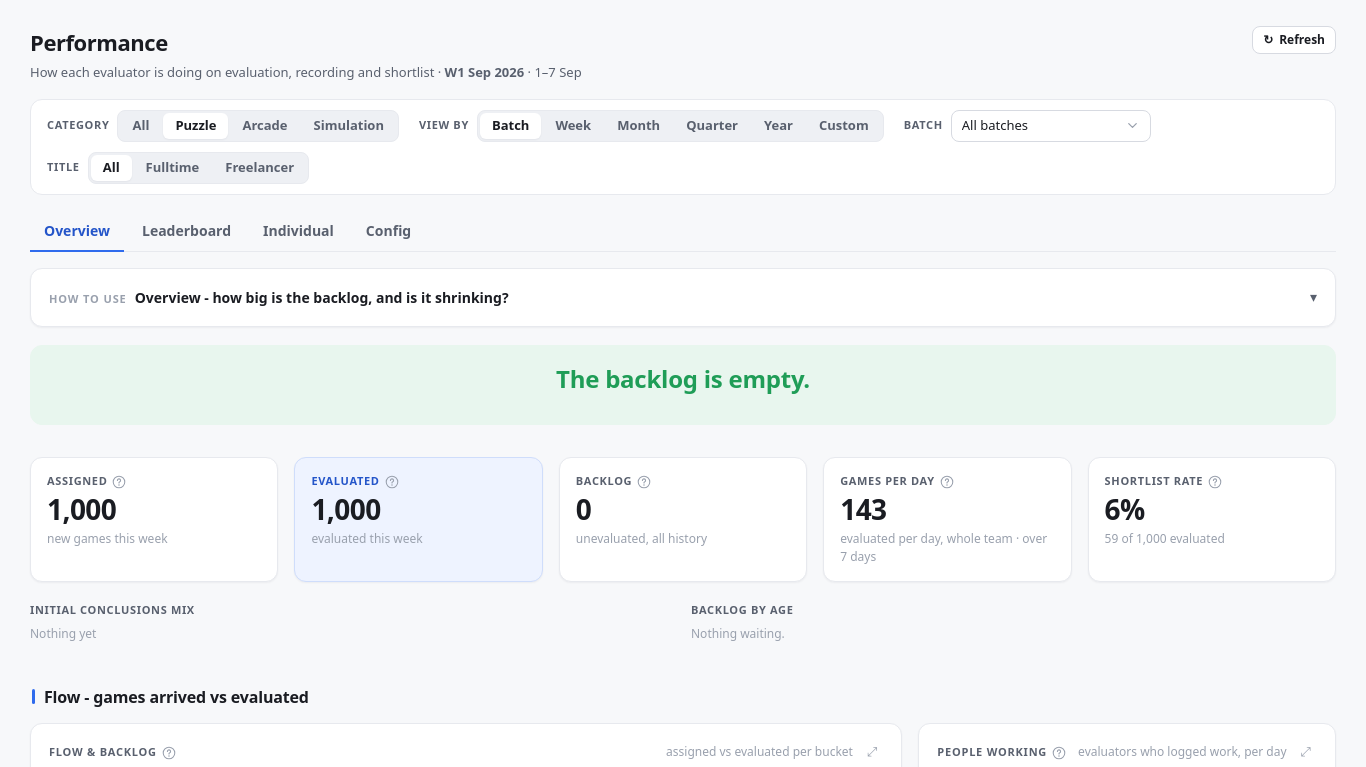
Test: Config tab: sections, live rules, one save bar › marks a rule that differs from its default, and shows stale days as Rescue's
Click the button "Config" at point(388, 231), box [352, 210, 425, 252]
(page scrolled)
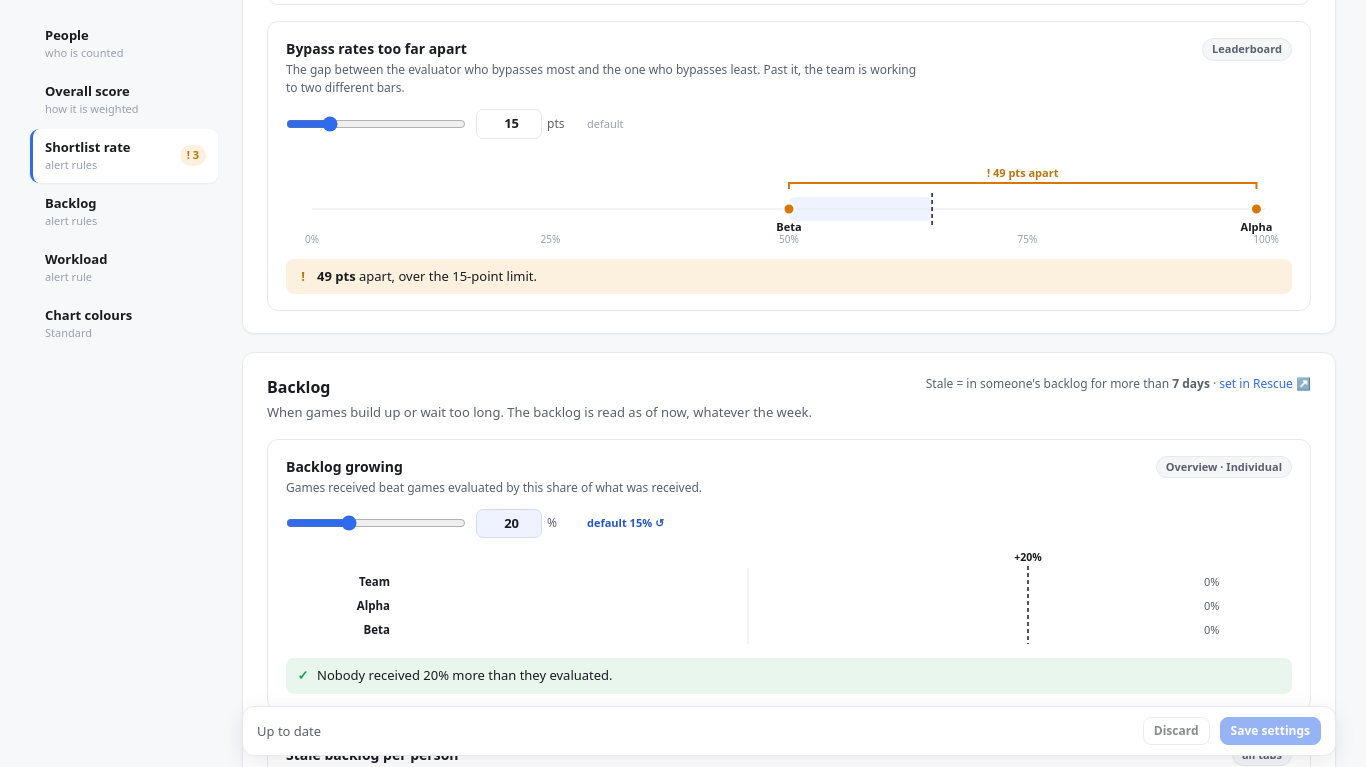
Expected: the number field named "Backlog growing" holds "20", [476, 508, 542, 538]
Expected: the element named "Backlog growing" shows "default 15%", [286, 508, 664, 538]
Expected: the element with class "cfg-sec-meta" shows "7 days", [926, 375, 1311, 393]
